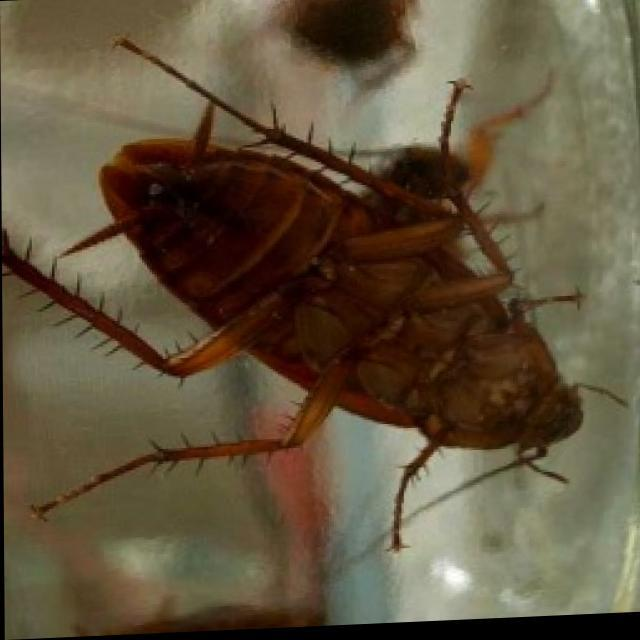cockroach: (19, 35, 628, 557)
